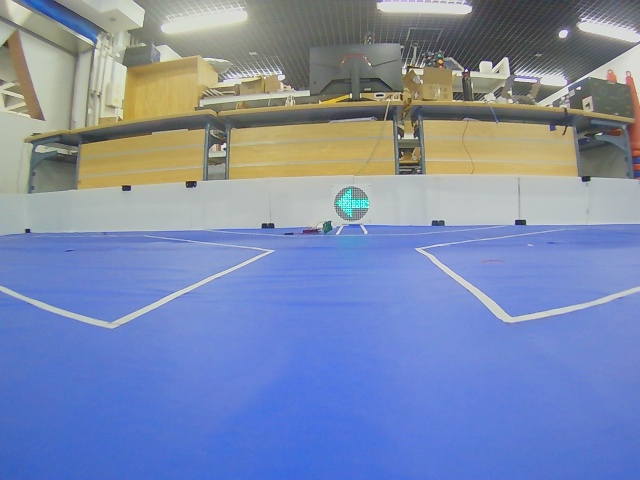left_green: (334, 187, 369, 221)
